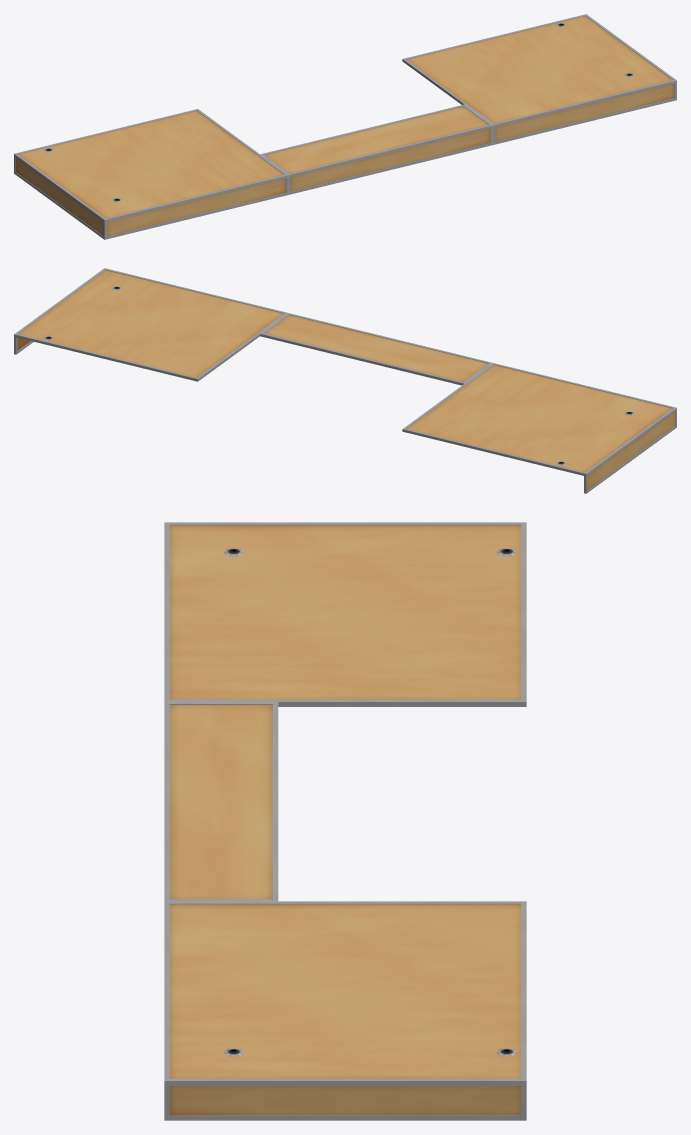
Rendered from jsf_4P_s04_c05_t02_DX.fbx.
3 renders of one model, top to bottom at view 1: azimuth 30°, elevation 25°; view 2: azimuth 150°, elevation 25°; view 3: azimuth 270°, elevation 25°, orthographic. The views are drawn at different scales.
Visible parts, largest first — view 1: jsf_4P_s04_c05_t02_DX; view 2: jsf_4P_s04_c05_t02_DX; view 3: jsf_4P_s04_c05_t02_DX.
Part boxes in pixels (left/top/right/bottom): jsf_4P_s04_c05_t02_DX: left=14, top=14, right=676, bottom=239; jsf_4P_s04_c05_t02_DX: left=14, top=268, right=676, bottom=493; jsf_4P_s04_c05_t02_DX: left=164, top=522, right=526, bottom=1120.
Size of the model in its own units: 378 by 12.99 by 104.
